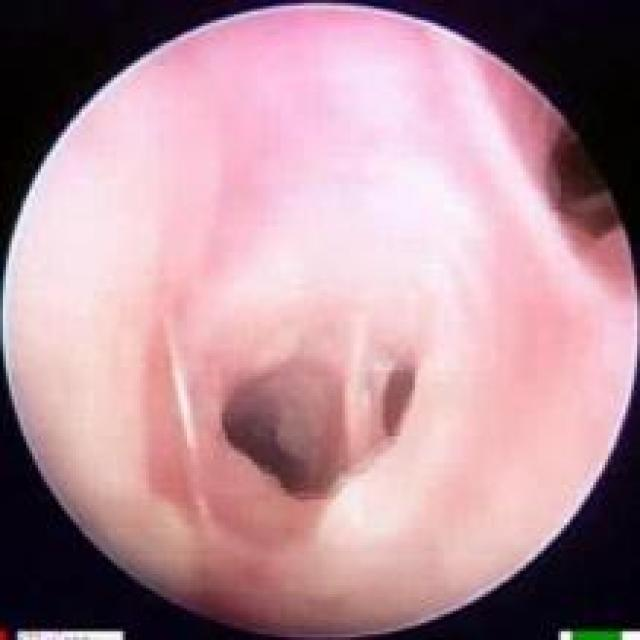contrast: (221, 403, 334, 495), (557, 129, 617, 239)
saturation: (0, 2, 489, 292), (0, 224, 148, 550), (321, 451, 420, 543)
specularity: (172, 368, 196, 447)
